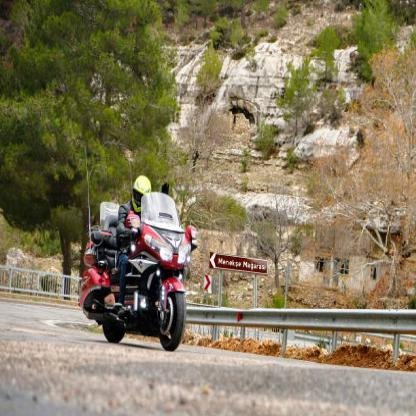Motorcycle: (72, 197, 199, 351)
